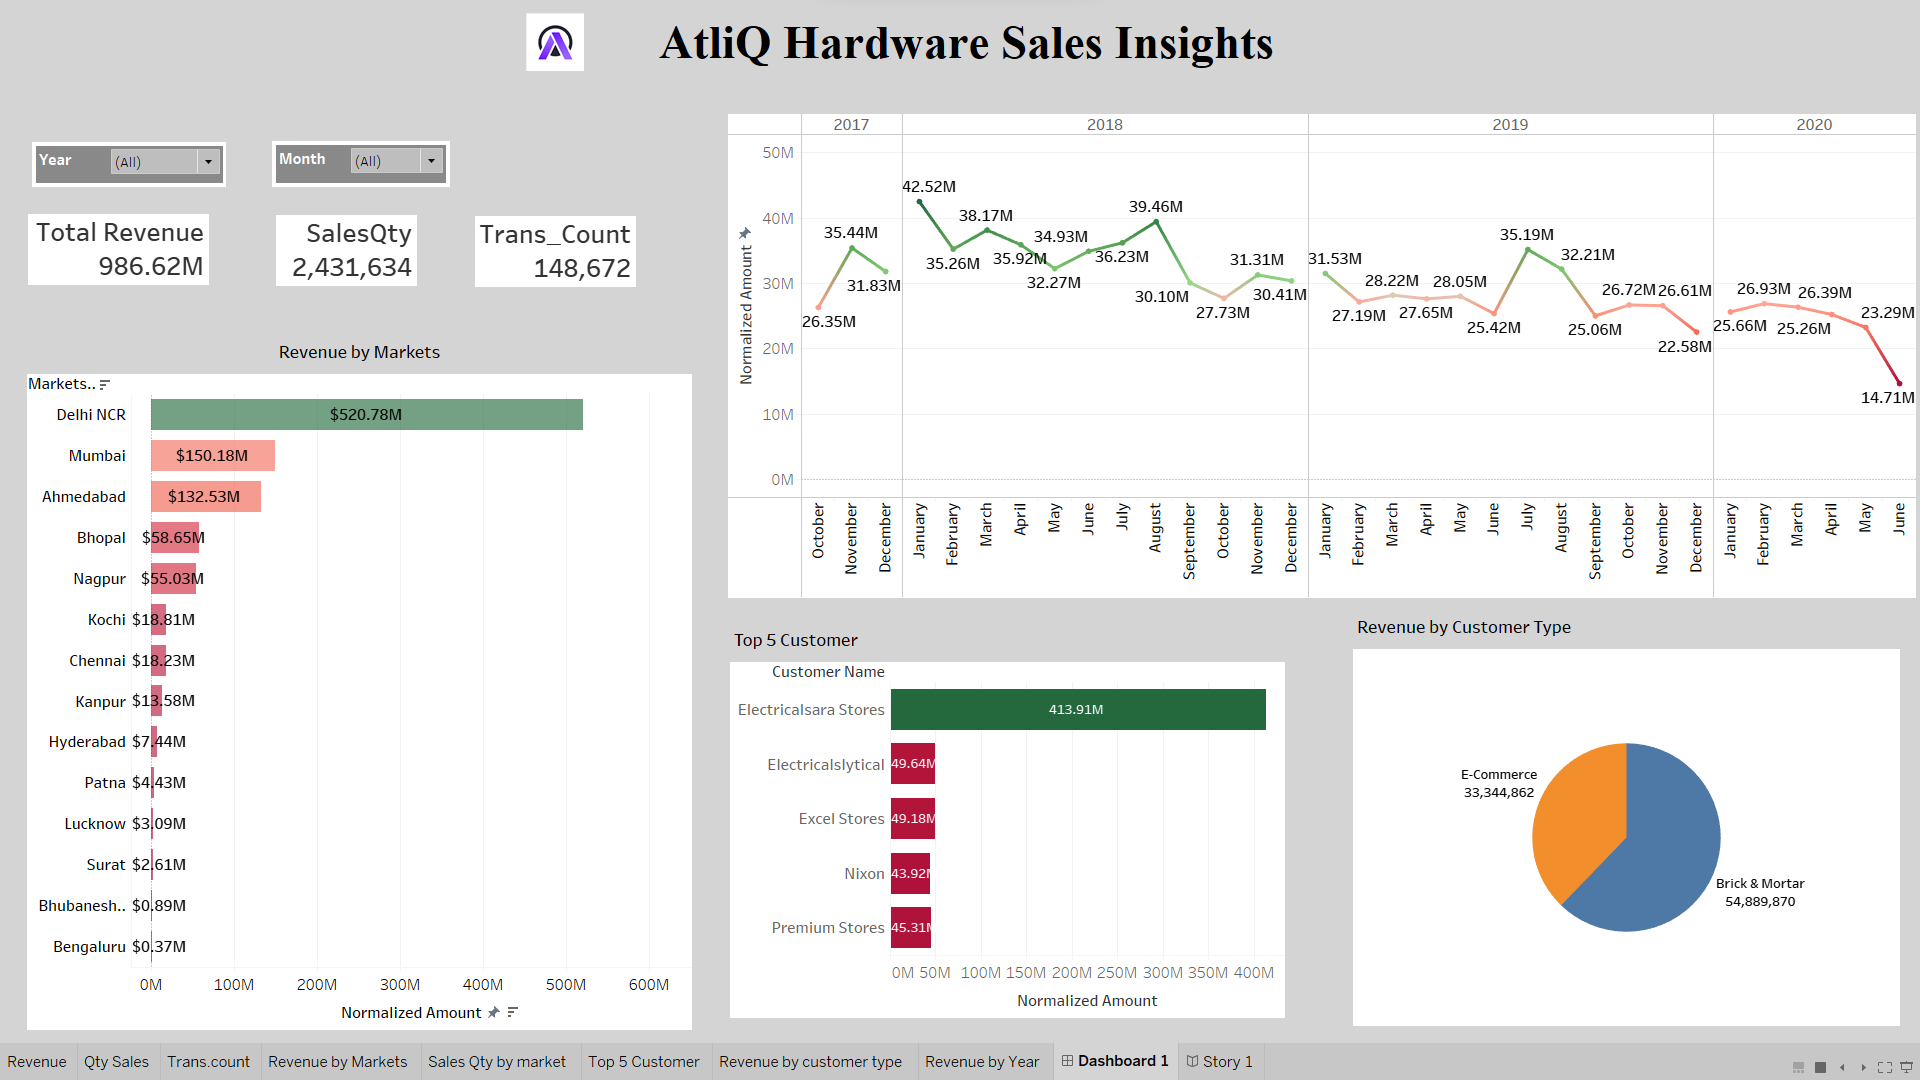

The dashboard page shown, as its layout file describes it:
{"tool":"tableau","page":{"name":"Dashboard 1","canvas":[1000,1000],"units":"permille","ordinal":0},"visuals":[{"type":"image","param":"Image/atliq logo.png","box":[274,12.6,32.6,55.2]},{"type":"worksheet","title":"Revenue by Year","mark":"Automatic","rows":["Calculation_735775599199322112"],"cols":["cy-date","cy-date"],"box":[379,109.8,619.2,464.5]},{"type":"filter","title":"Revenue by Year","param":"[federated.12w4wcq1mp1xi51cexiz00513ge6].[mn:cy-date:ok]","box":[141.9,135.5,92.8,43.9]},{"type":"filter","title":"Revenue by Year","param":"[federated.12w4wcq1mp1xi51cexiz00513ge6].[yr:cy-date:ok]","box":[16.6,136.6,101.4,42.8]},{"type":"worksheet","title":"Revenue","mark":"Automatic","box":[14.7,204.8,115.5,121.8]},{"type":"worksheet","title":"Qty Sales","mark":"Automatic","box":[143.7,205.8,96.4,117.9]},{"type":"worksheet","title":"Trans.count","mark":"Automatic","box":[247.5,207,104.4,89.1]},{"type":"worksheet","title":"Revenue by Markets","mark":"Automatic","rows":["markets_name"],"cols":["Calculation_735775599199322112"],"box":[14.1,321.2,346.4,666.2]},{"type":"worksheet","title":"Revenue by customer type","mark":"Pie","box":[704.6,585,285,398.9]},{"type":"worksheet","title":"Top 5 Customer","mark":"Automatic","rows":["customer_name"],"cols":["Calculation_735775599199322112"],"box":[380.2,597.1,289.3,388.2]}]}

Visuals, with their boxes on the dashboard's canvas, which has no fixed pixel size, in thousandths of its width and height (x1, y1, x2, y2). These are canvas units, not pixel positions in the 1920x1080 screenshot, which may show the page scaled, cropped or inside an application window:
image: left=274, top=13, right=307, bottom=68
"Revenue by Year" worksheet: left=379, top=110, right=998, bottom=574
"Revenue by Year" filter: left=142, top=136, right=235, bottom=179
"Revenue by Year" filter: left=17, top=137, right=118, bottom=179
"Revenue" worksheet: left=15, top=205, right=130, bottom=327
"Qty Sales" worksheet: left=144, top=206, right=240, bottom=324
"Trans.count" worksheet: left=248, top=207, right=352, bottom=296
"Revenue by Markets" worksheet: left=14, top=321, right=360, bottom=987
"Revenue by customer type" worksheet (Pie marks): left=705, top=585, right=990, bottom=984
"Top 5 Customer" worksheet: left=380, top=597, right=670, bottom=985
